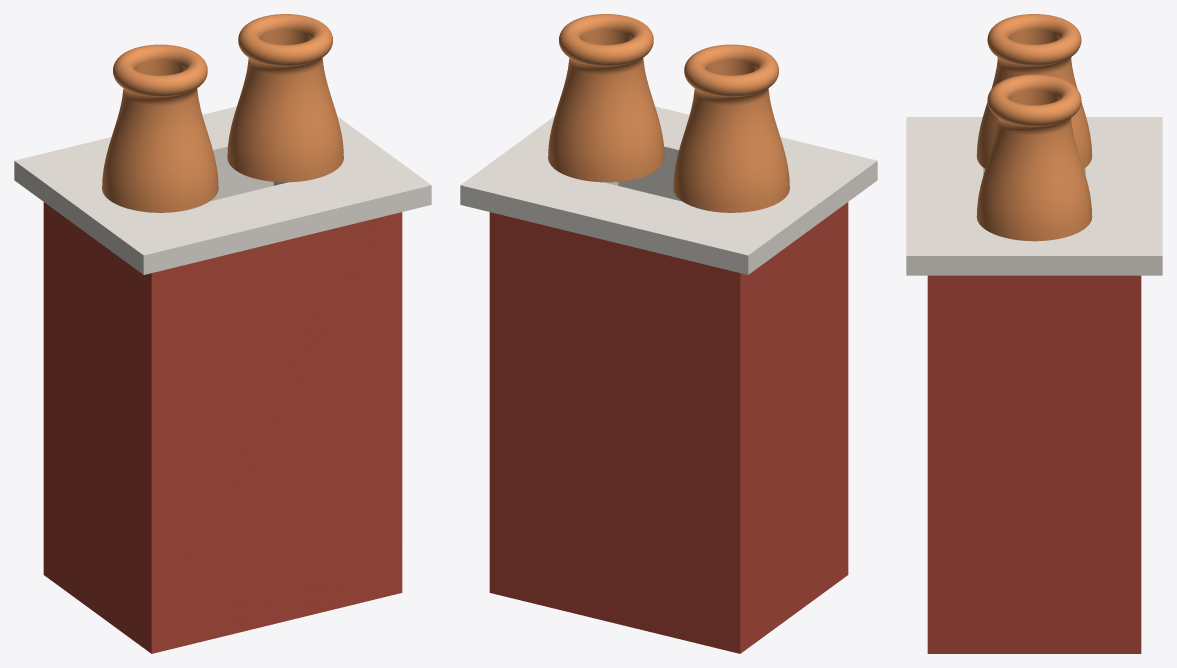
File: 4e obstakel.fbx
3 views of the same model, side by side, from view 1: azimuth 30°, elevation 25°; view 2: azimuth 150°, elevation 25°; view 3: azimuth 270°, elevation 25° (orthographic).
Parts seen in each view (by area): view 1: Cube; view 2: Cube; view 3: Cube.
Boxes of the visible parts, x1,y1,x2,y2 form: Cube: (14, 14, 431, 653); Cube: (460, 14, 877, 653); Cube: (906, 14, 1162, 653).
Size of the model in its own units: 77 by 138 by 60.
